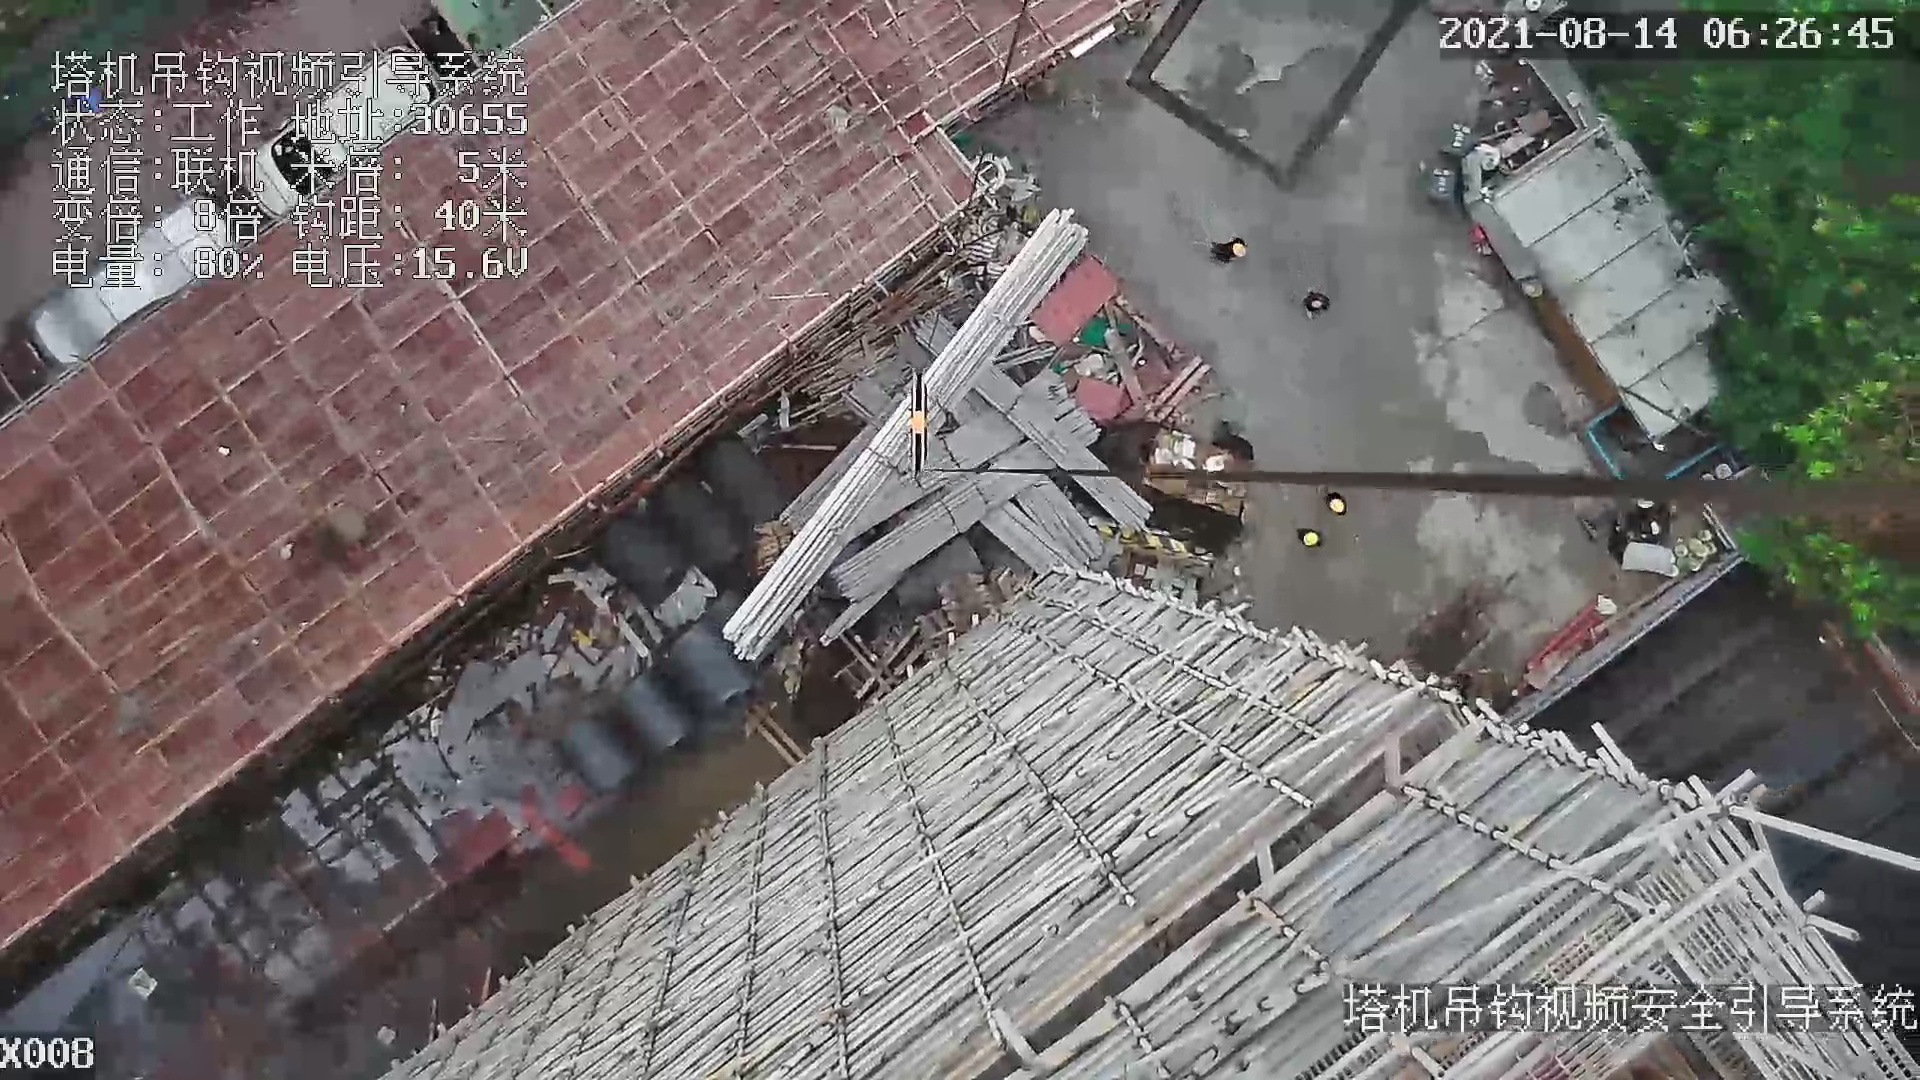helmet: (1304, 532, 1317, 549), (1230, 242, 1244, 257), (1329, 499, 1343, 512), (1312, 297, 1323, 313)
person: (1214, 226, 1251, 273), (1304, 521, 1331, 556), (1306, 287, 1332, 322), (1324, 490, 1351, 516)
